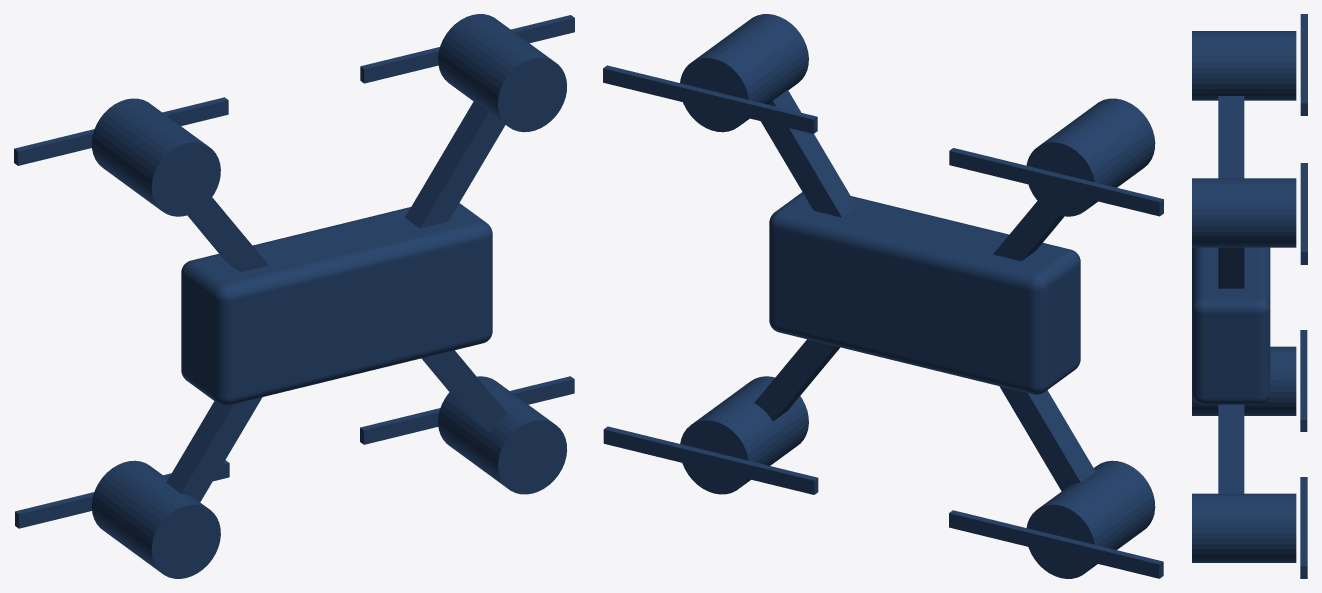
The model's file is drone.gltf.
3 renders of one model, left to right at view 1: azimuth 30°, elevation 25°; view 2: azimuth 150°, elevation 25°; view 3: azimuth 270°, elevation 25°, orthographic. The views are drawn at different scales.
Parts seen in each view (by area): view 1: body, propeller.3, propeller.2, propeller.4, propeller.1; view 2: body, propeller.2, propeller.1, propeller.4, propeller.3; view 3: body, propeller.1, propeller.2, propeller.3, propeller.4.
Boxes of the visible parts, x1,y1,x2,y2 form: body: (91,14,567,578); propeller.3: (14,97,228,165); propeller.2: (360,376,574,444); propeller.4: (360,15,574,83); propeller.1: (15,460,229,528); body: (680,14,1155,578); propeller.2: (603,426,818,494); propeller.1: (949,510,1163,578); propeller.4: (603,65,817,133); propeller.3: (949,148,1163,216); body: (1192,31,1296,562); propeller.1: (1300,330,1307,431); propeller.2: (1300,477,1307,578); propeller.3: (1300,14,1307,115); propeller.4: (1300,163,1307,264).
Bounding box in the file's own units: 0.67 × 0.5 × 0.1387.
1 material, 1 textured.
